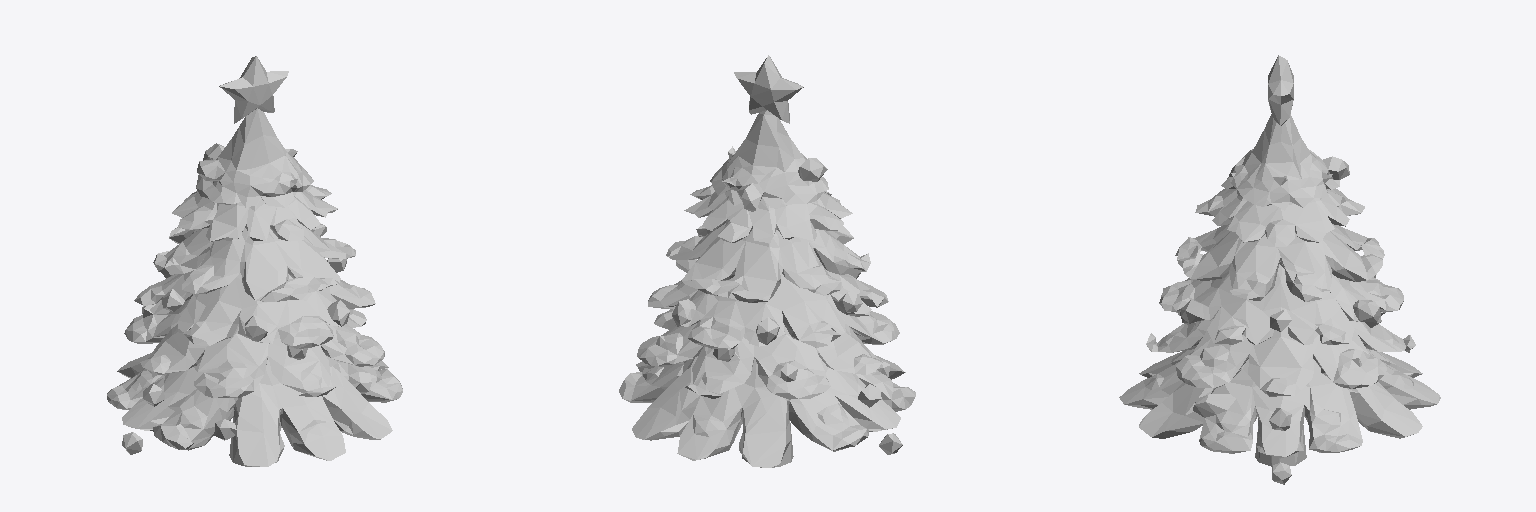
The model's file is christmas_tree.obj.
3 views of the same model, side by side, from view 1: azimuth 30°, elevation 25°; view 2: azimuth 150°, elevation 25°; view 3: azimuth 270°, elevation 25° (orthographic).
Parts seen in each view (by area): view 1: Christmas_pine_tree_w_[number redacted]_texture; view 2: Christmas_pine_tree_w_[number redacted]_texture; view 3: Christmas_pine_tree_w_[number redacted]_texture.
Boxes of the visible parts, box(x1,y1,x2,y2) form: Christmas_pine_tree_w_[number redacted]_texture: box(107, 56, 402, 466); Christmas_pine_tree_w_[number redacted]_texture: box(619, 55, 915, 467); Christmas_pine_tree_w_[number redacted]_texture: box(1119, 55, 1440, 484).
Bounding box in the file's own units: 1.33 × 1.92 × 1.4.